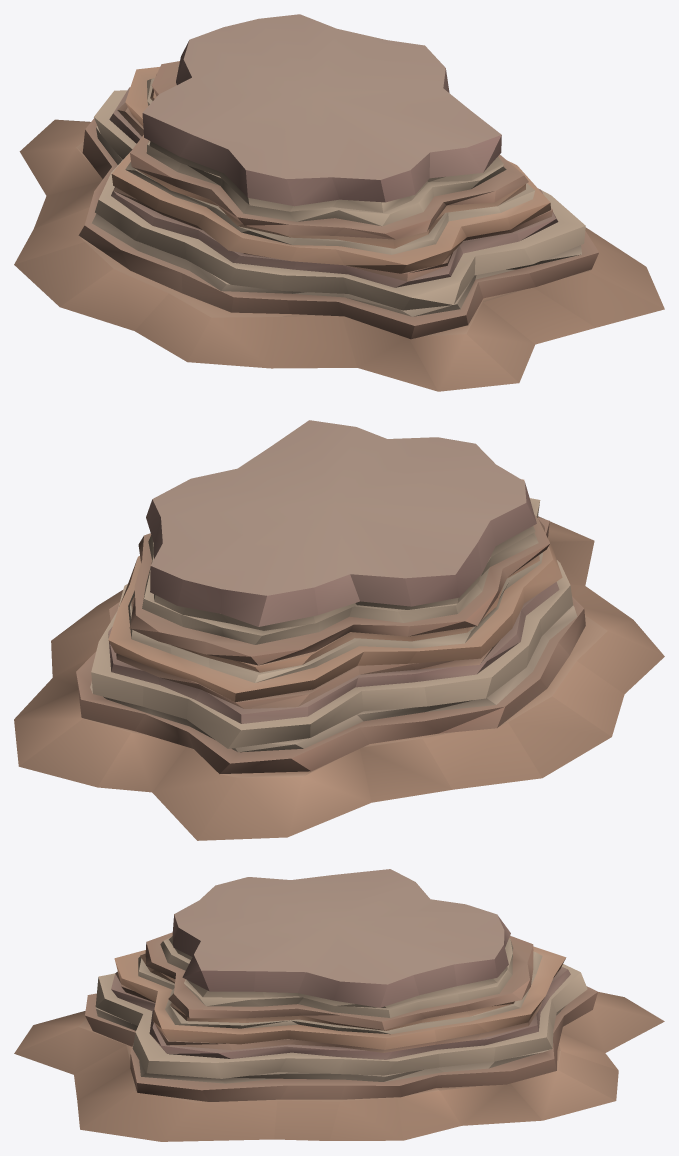
Rendered from mesa_c.glb.
3 renders of one model, top to bottom at view 1: azimuth 30°, elevation 25°; view 2: azimuth 150°, elevation 25°; view 3: azimuth 270°, elevation 25°, orthographic. The views are drawn at different scales.
Parts seen in each view (by area): view 1: mesa_c; view 2: mesa_c; view 3: mesa_c.
Part boxes in pixels (x1,y1,x2,y2): mesa_c: (14, 14, 664, 391); mesa_c: (14, 420, 664, 840); mesa_c: (14, 869, 664, 1141).
Size of the model in its own units: 31.43 by 9.36 by 43.68.
